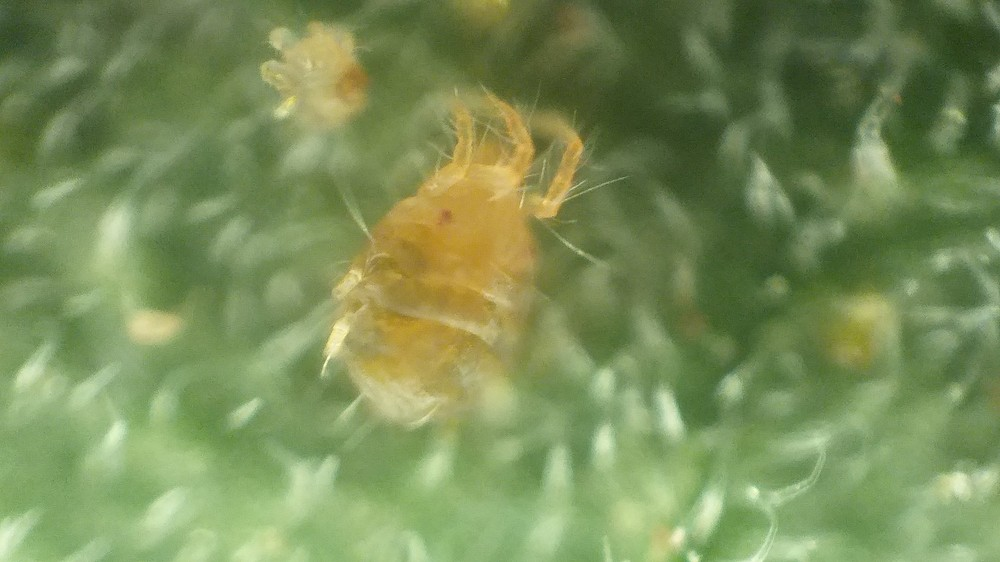Aracnido Rojo: (324, 91, 605, 453), (256, 17, 377, 140)
